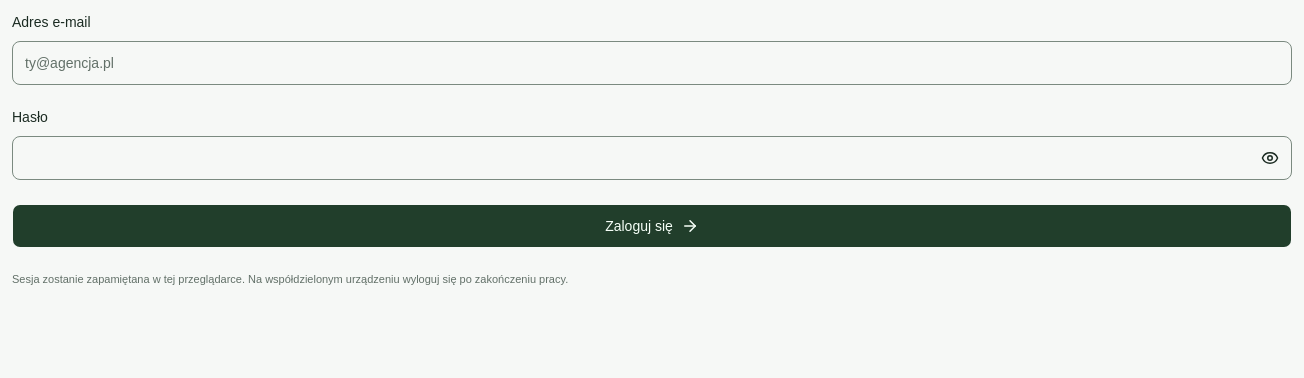
email login form › shows a safe error and focuses the alert after a rejected login
Type "person@example.test" into the field labelled "Adres e-mail" at (652, 63), box [12,41,1292,85]
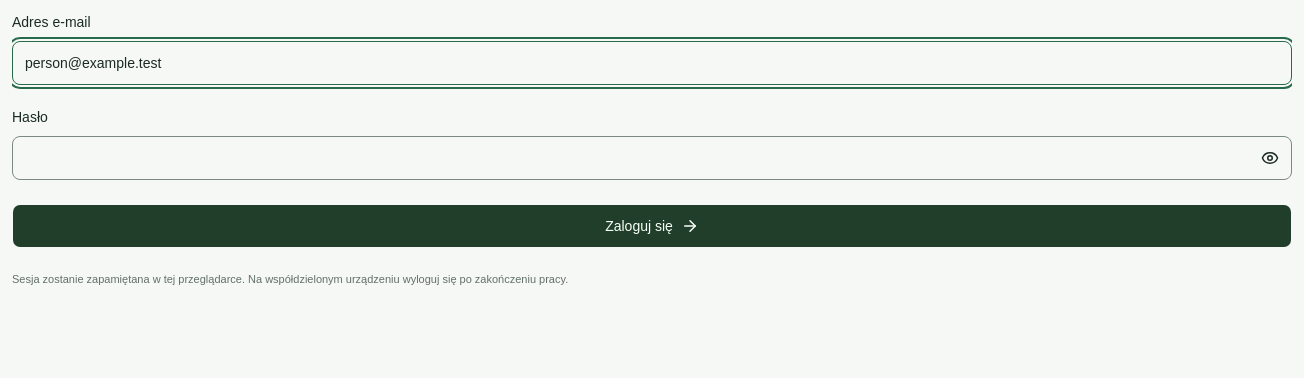
Type "test-only-password" into the password field labelled "Hasło" at (652, 158), box [12,136,1292,180]
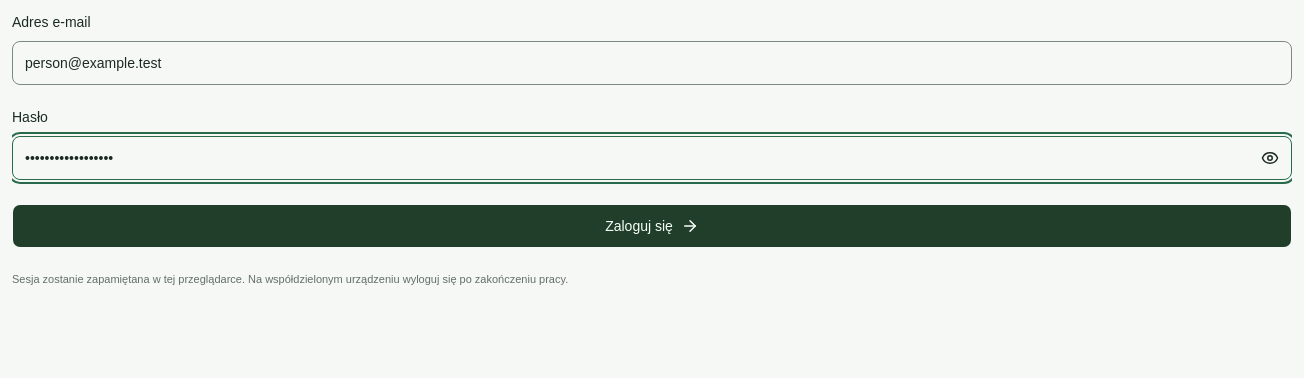
Click the button "Zaloguj się" at (652, 226), box [12,204,1292,248]
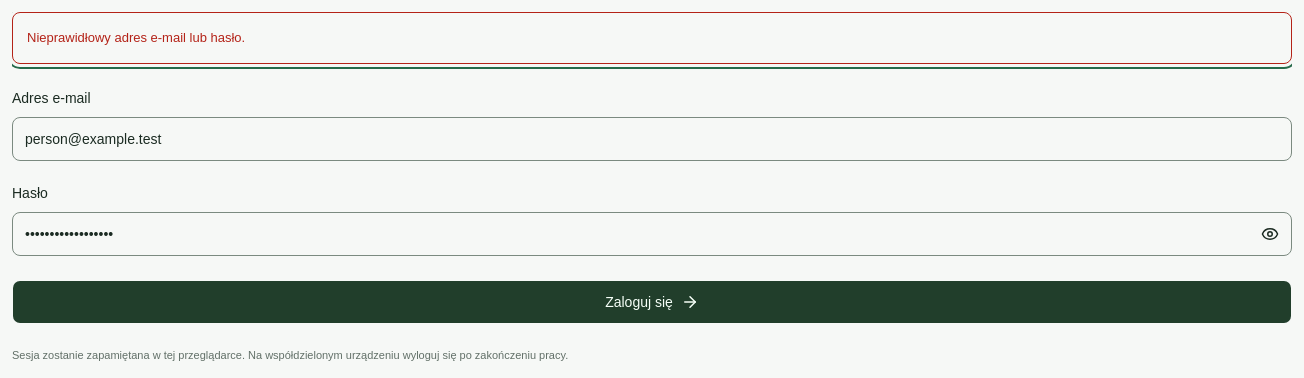
Check: the message does not show "private backend detail", box [12,12,1292,64]
Check: the message reads "Nieprawidłowy adres e-mail lub hasło.", box [27,30,245,45]
